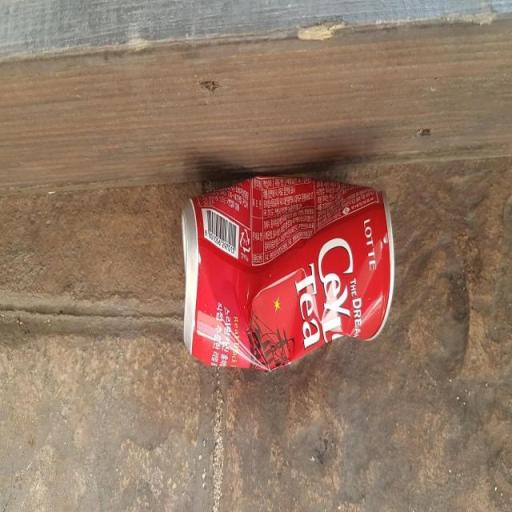metal: (147, 154, 398, 403)
